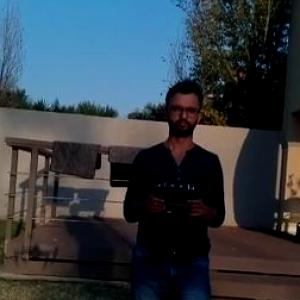follow: (117, 74, 231, 299)
